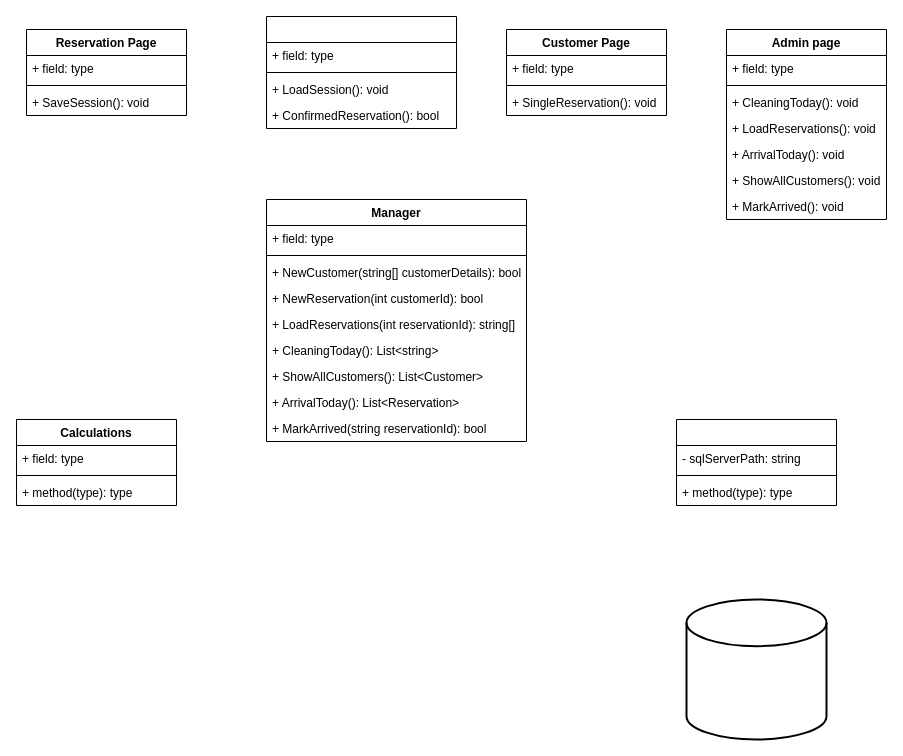
Image size: 903x756. Some labels were removed from this diagram. The box of each missing label's shape, as (x1, y1, x2, y2) in pixels:
DB_Connector: (676, 418, 836, 506)
Payment Page: (266, 16, 456, 128)
